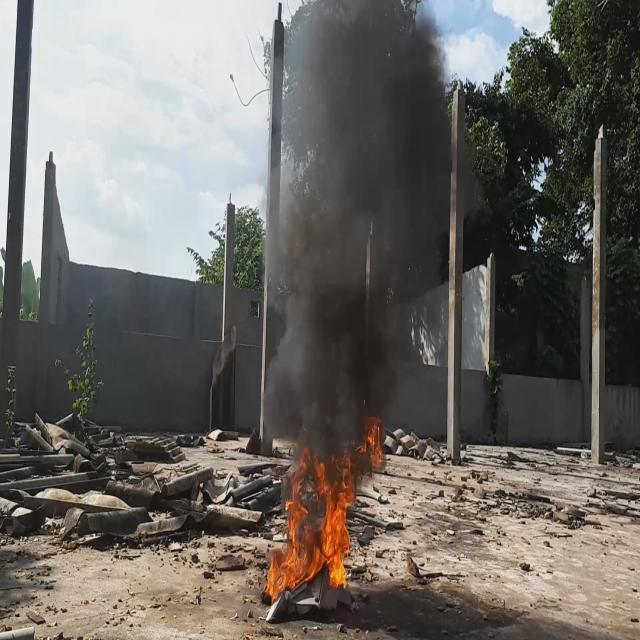Fire: (262, 409, 384, 603)
Smoke: (261, 0, 457, 461)
